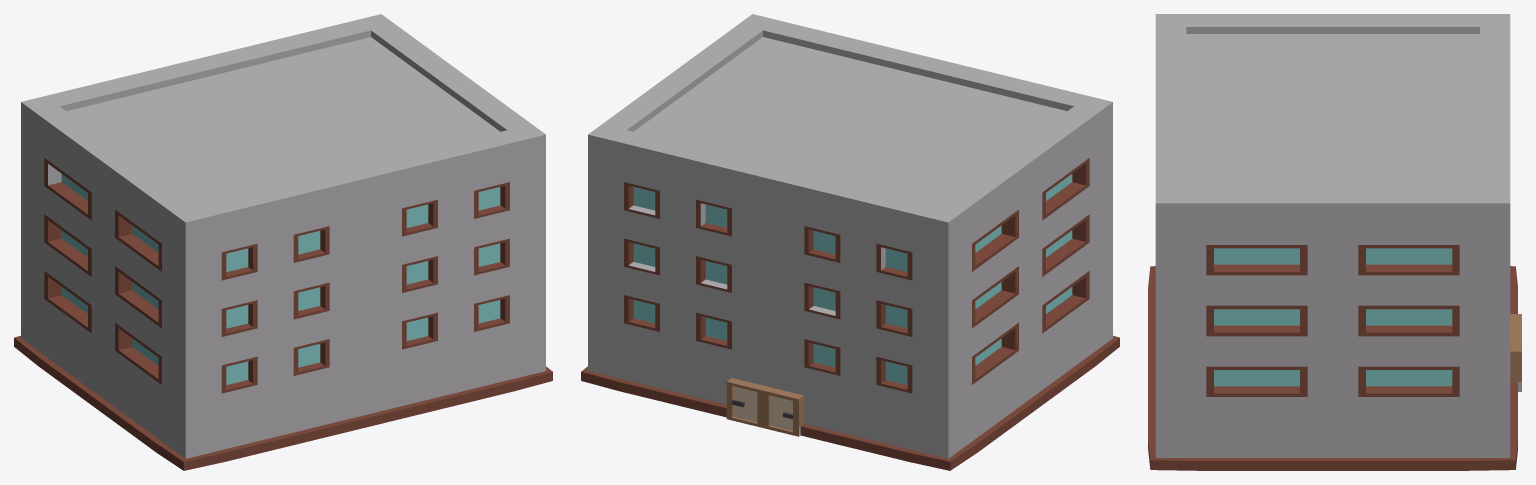
Rendered from BUILDING_03.fbx.
The picture shows the model from 3 angles, left to right: view 1: azimuth 30°, elevation 25°; view 2: azimuth 150°, elevation 25°; view 3: azimuth 270°, elevation 25°; orthographic projection. The views are drawn at different scales.
Visible parts, largest first — view 1: Cube; view 2: Cube; view 3: Cube.
Boxes of the visible parts, <box> form: Cube: <box>14,14,552,470</box>; Cube: <box>581,14,1119,470</box>; Cube: <box>1148,14,1521,470</box>.
Size of the model in its own units: 2781 by 1750 by 2243.
1 material, 1 textured.
